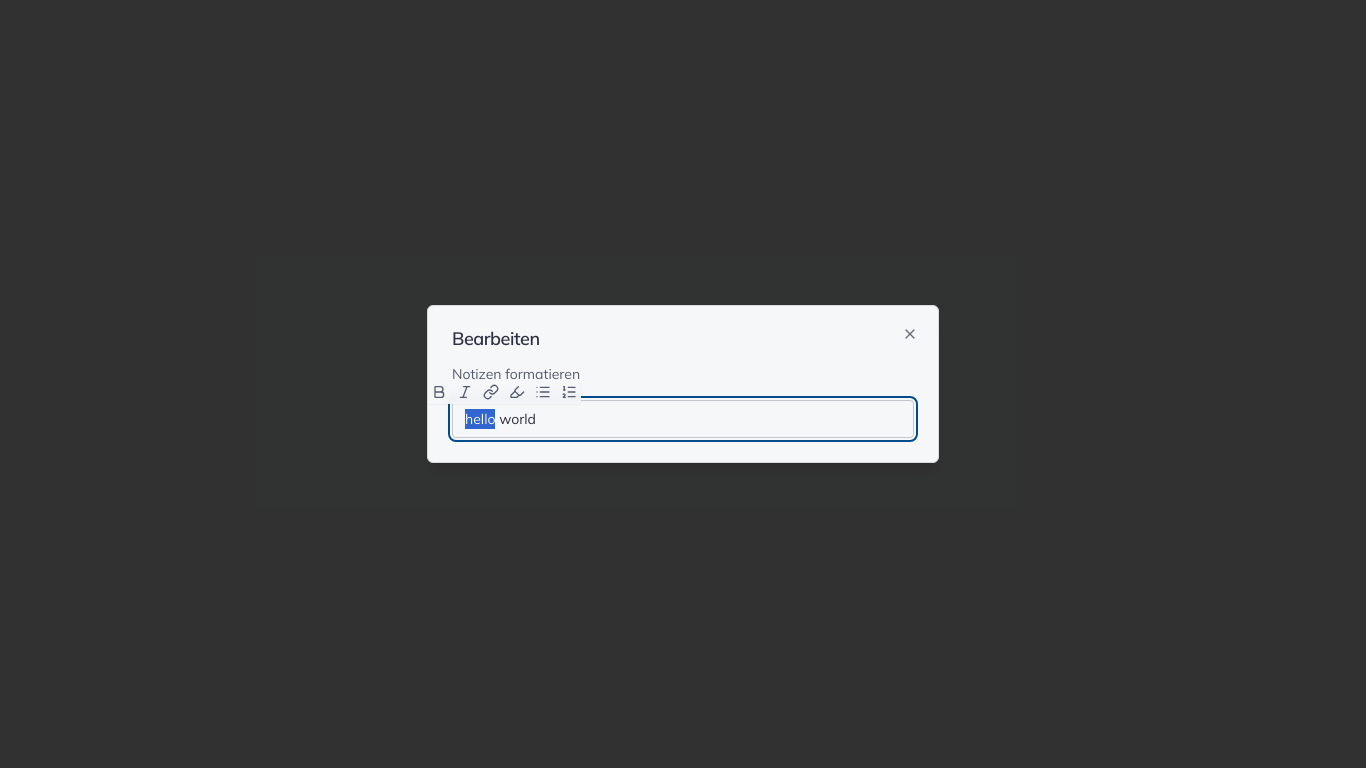
Test: FormattedTextField — toolbar interactions › keeps the toolbar inside the modal scope and applies bold without closing the dialog
Step 1. Click the button titled "Gras" → (439, 392), box [427, 380, 451, 404]
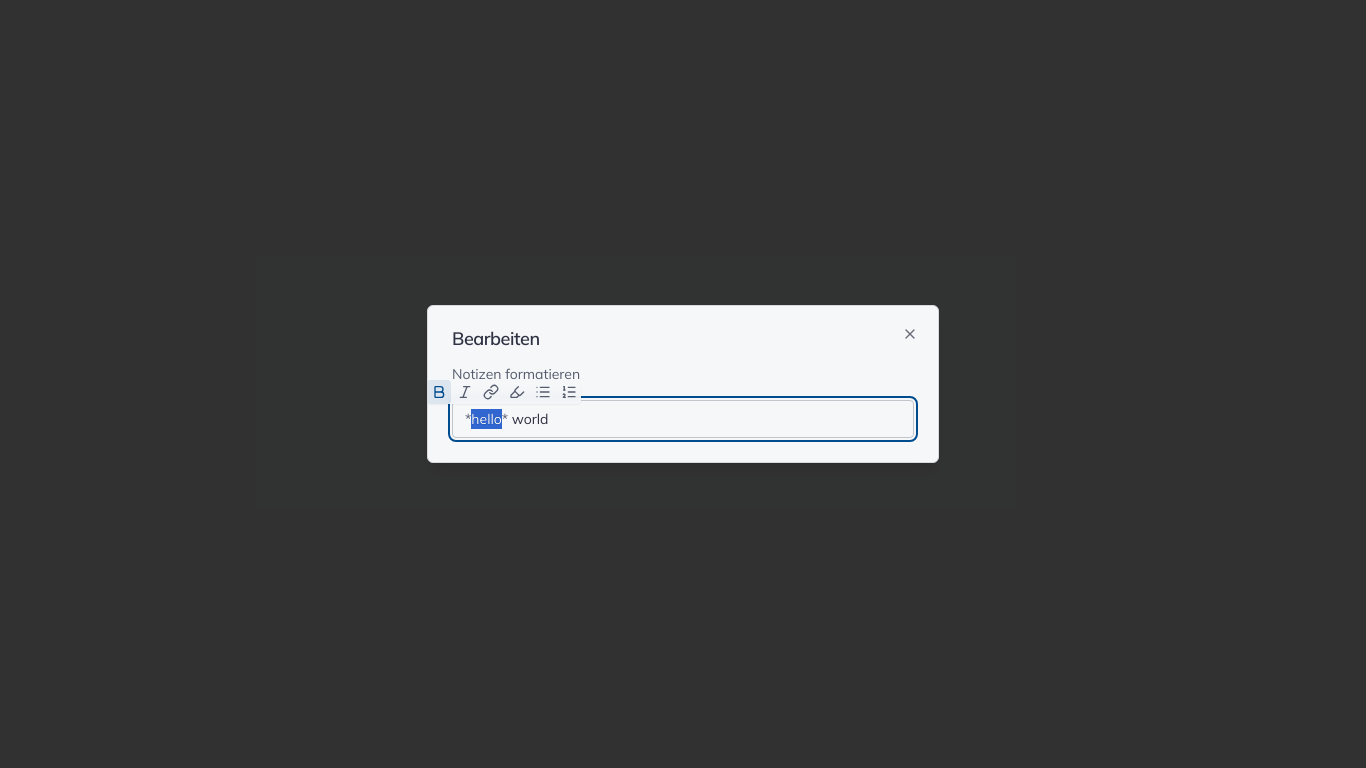
Expected: the dialog is shown, [427, 305, 939, 463]
Now the text box holds "*hello* world", box [453, 401, 913, 437]
